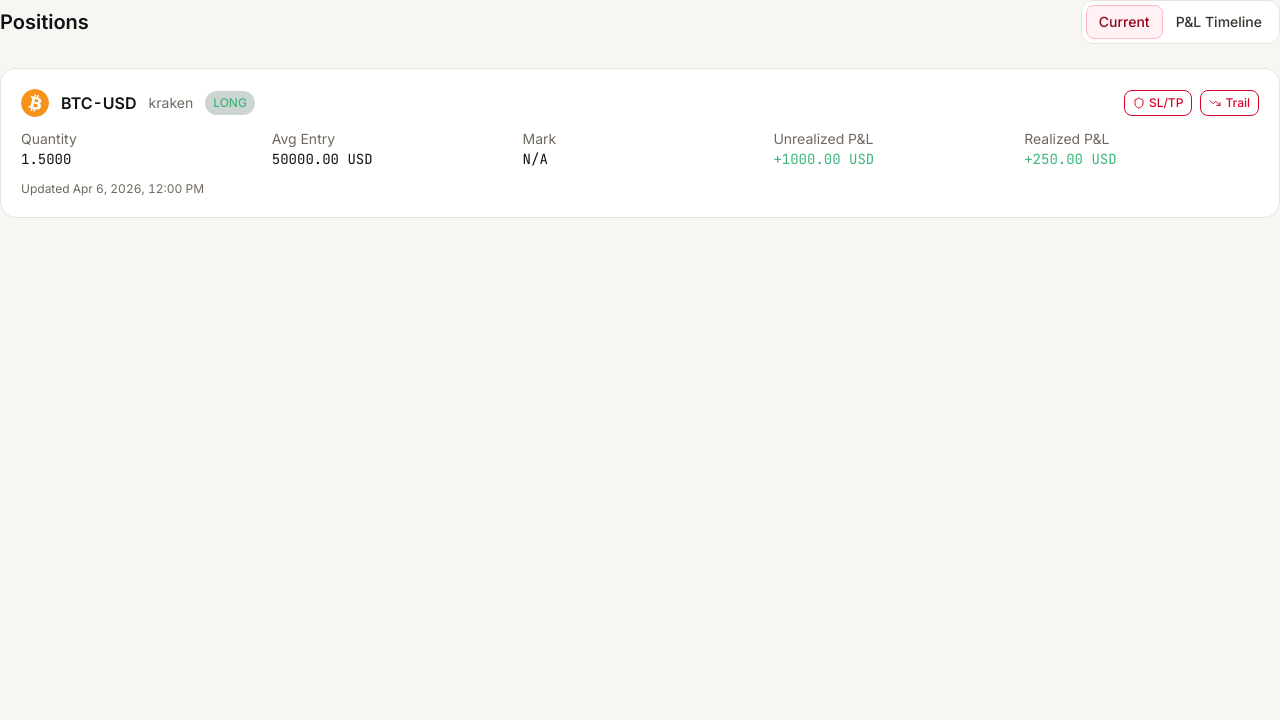
Test: Positions › opens trailing stop modal when Trail button is clicked
Click the button with test id "attach-trailing-stop-BTC-USD-kraken-live".
click(1230, 103)  # box x1=1200 y1=90 x2=1259 y2=116
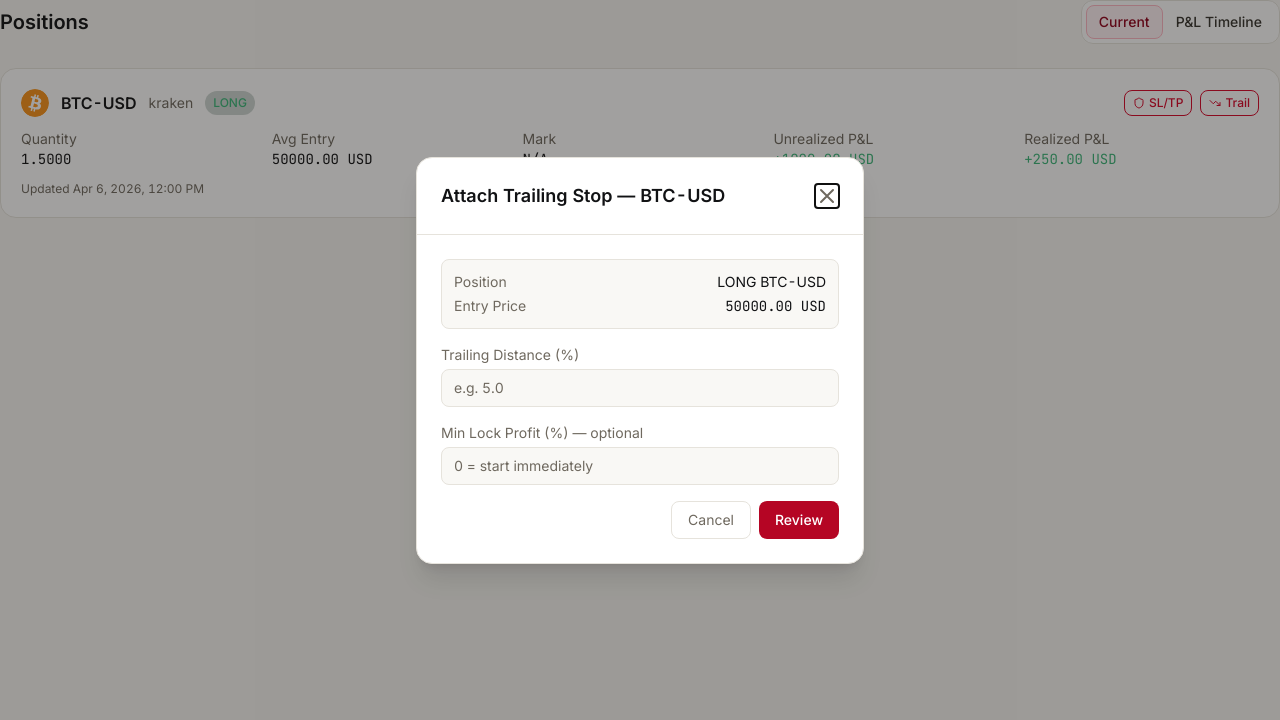
Result: the heading "Attach Trailing Stop — BTC-USD" is shown at x1=441 y1=182 x2=725 y2=210
